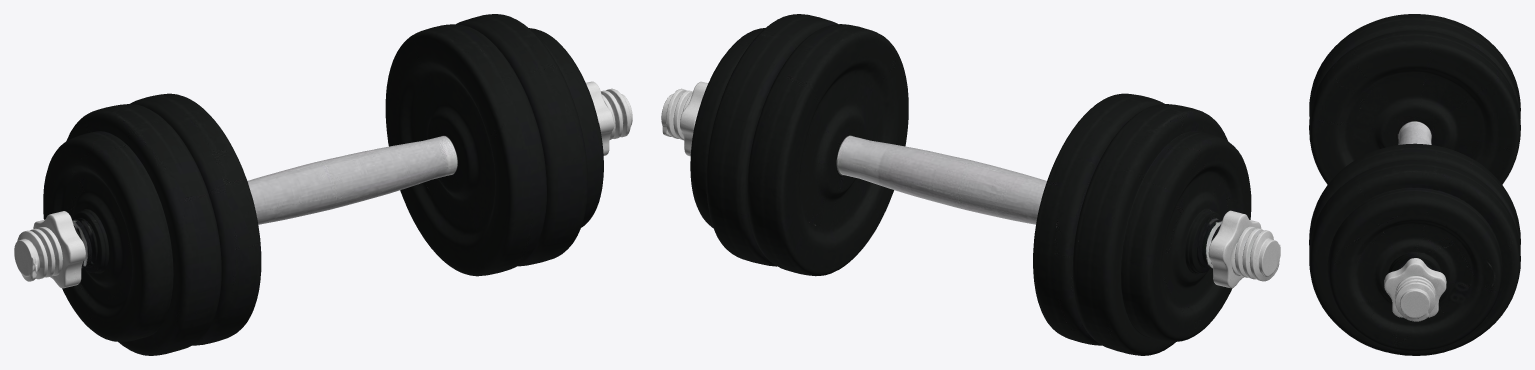
File: halter.glb
3 renders of one model, left to right at view 1: azimuth 30°, elevation 25°; view 2: azimuth 150°, elevation 25°; view 3: azimuth 270°, elevation 25°, orthographic. The views are drawn at different scales.
Size of the model in its own units: 1.9 by 0.6921 by 0.713.
Materials: 1 (1 with a texture image).
